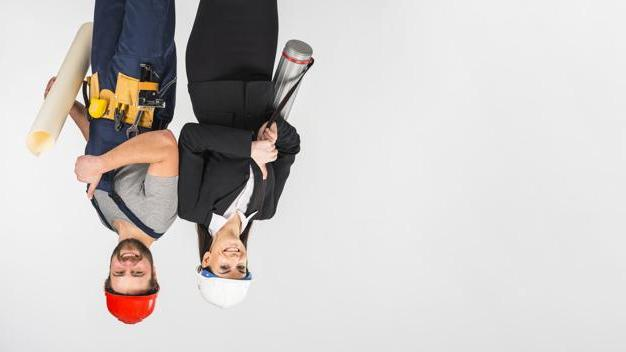thumbsdown: (74, 155, 97, 200), (257, 140, 279, 181)
